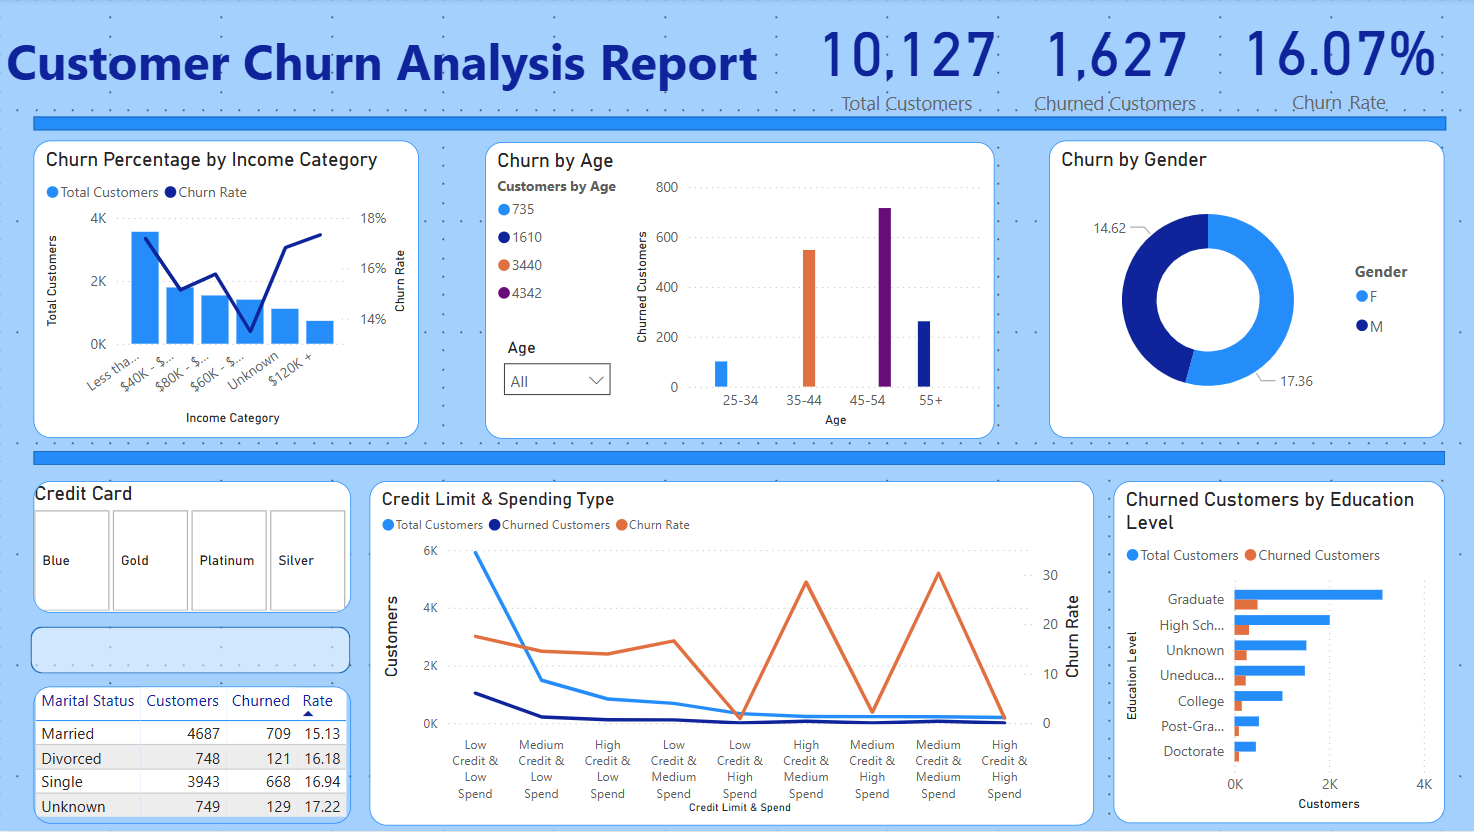

The dashboard page shown, as its layout file describes it:
{"tool":"powerbi","page":{"name":"Dashboard","canvas":[1280,720],"ordinal":1},"visuals":[{"type":"donutChart","title":"Churn by Gender","fields":{"Category":["Gender.Demographic_Group"],"Series":["Gender.Demographic_Category"],"Y":["Sum(Gender.Churn_Rate)"]},"box":[907.9,123.7,341.7,257.1],"z":0},{"type":"clusteredColumnChart","title":"Churn by Age","fields":{"Category":["Age.Age"],"Y":["Sum(Age.Churned_Customers)"],"Series":["Age.Total_Customers"]},"box":[420.5,124.4,440.8,256.9],"z":1000},{"type":"lineChart","title":"Credit Limit & Spending Type","fields":{"Y":["Sum(Creidit Limit & Total trans.Total_Customers)","Sum(Creidit Limit & Total trans.Churn_Customers)"],"Category":["Creidit Limit & Total trans.Credit_Trans_Category"],"Y2":["Sum(Creidit Limit & Total trans.Churn_Rate)"]},"box":[320.3,417.3,626.5,298.1],"z":2000},{"type":"tableEx","fields":{"Values":["Marital Status.Marital_Status","Marital Status.Total_Customers","Marital Status.Churned_Customers","Marital Status.Churn_Rate"]},"box":[29.3,595.5,275,118.8],"z":3000},{"type":"slicer","fields":{"Values":["Age.Age"]},"box":[427.5,288,112.2,71.7],"z":4000},{"type":"lineClusteredColumnComboChart","title":"Churn Percentage by Income Category","fields":{"Category":["Income Level.Income_Category"],"Y":["Sum(Income Level.Total_Customers)"],"Y2":["Income Level.Corrected_Churn_Rate"]},"box":[29.3,123.7,333.6,257.1],"z":5000},{"type":"clusteredBarChart","title":"Churned Customers by Education Level","fields":{"Category":["Education Level.Education_Level"],"Y":["Sum(Education Level.Total_Customers)","Sum(Education Level.Churned_Customers)"]},"box":[964.1,417.8,286.6,296.1],"z":6000},{"type":"card","fields":{"Values":["BankChurners.Churned_Customers"]},"box":[888.3,1,152.6,101.1],"z":7000},{"type":"shape","box":[29.5,102,1221.8,12.1],"z":8000},{"type":"shape","box":[29.7,392.1,1221,12.2],"z":9000},{"type":"card","fields":{"Values":["BankChurners.Churn_Rate"]},"box":[1068.1,0,181.9,102.1],"z":10000},{"type":"card","fields":{"Values":["BankChurners.Total_Customers"]},"box":[699.3,0,170.8,103.1],"z":11000},{"type":"shape","box":[27.7,543.5,276.6,40.7],"z":12000},{"type":"textbox","box":[1.4,18.9,669.3,69],"z":13000},{"type":"advancedSlicerVisual","title":"Credit Card","fields":{"Values":["Credit Card.Card_Category"]},"box":[29.3,418.2,275,113.9],"z":16000}]}

Visuals, with their boxes in screenshot pixels (x1, y1, x2, y2), scaled from the page's 1280x720 canvas onto the 1474x832 screenshot:
"Churn by Gender" donutChart: 1046,143,1439,440
"Churn by Age" clusteredColumnChart: 484,144,992,441
"Credit Limit & Spending Type" lineChart: 369,482,1090,827
tableEx - Marital Status.Marital_Status x Marital Status.Total_Customers: 34,688,350,825
slicer - Age.Age: 492,333,621,416
"Churn Percentage by Income Category" lineClusteredColumnComboChart: 34,143,418,440
"Churned Customers by Education Level" clusteredBarChart: 1110,483,1440,825
card - BankChurners.Churned_Customers: 1023,1,1199,118
shape: 34,118,1441,132
shape: 34,453,1440,467
card - BankChurners.Churn_Rate: 1230,0,1439,118
card - BankChurners.Total_Customers: 805,0,1002,119
shape: 32,628,350,675
textbox: 2,22,772,102
"Credit Card" advancedSlicerVisual: 34,483,350,615
